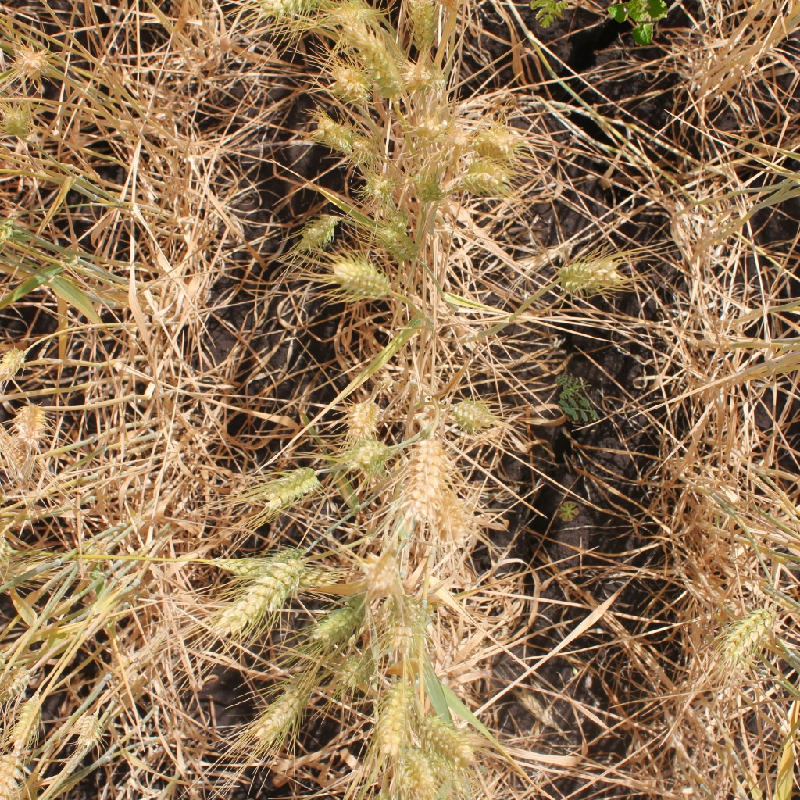spikelet: (211, 551, 306, 637), (400, 435, 451, 521), (248, 678, 312, 743), (207, 555, 339, 586), (371, 675, 417, 755), (718, 603, 778, 660), (330, 253, 394, 302), (356, 31, 404, 96), (419, 712, 477, 765), (257, 462, 321, 510), (554, 252, 623, 296), (382, 591, 431, 652), (310, 598, 365, 645), (433, 490, 476, 545), (396, 746, 438, 799), (358, 551, 404, 598), (459, 155, 513, 195), (373, 217, 421, 261), (10, 693, 44, 749), (336, 646, 380, 689), (12, 401, 51, 448), (329, 63, 372, 105), (343, 394, 384, 438), (405, 1, 441, 51), (474, 121, 522, 158), (296, 211, 339, 252), (313, 114, 357, 154), (450, 393, 496, 431), (342, 435, 388, 473), (1, 660, 33, 711), (412, 160, 446, 205), (11, 42, 50, 80), (404, 59, 442, 94), (1, 749, 27, 799), (361, 169, 398, 204), (411, 112, 448, 147), (74, 710, 106, 749), (329, 1, 375, 27), (1, 103, 35, 138), (1, 344, 29, 386), (255, 1, 328, 16)
weed: (607, 1, 668, 46), (555, 374, 600, 424), (527, 1, 573, 31), (558, 501, 580, 521)
